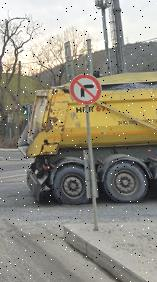rightturnsareforbidden: (70, 74, 101, 105)
